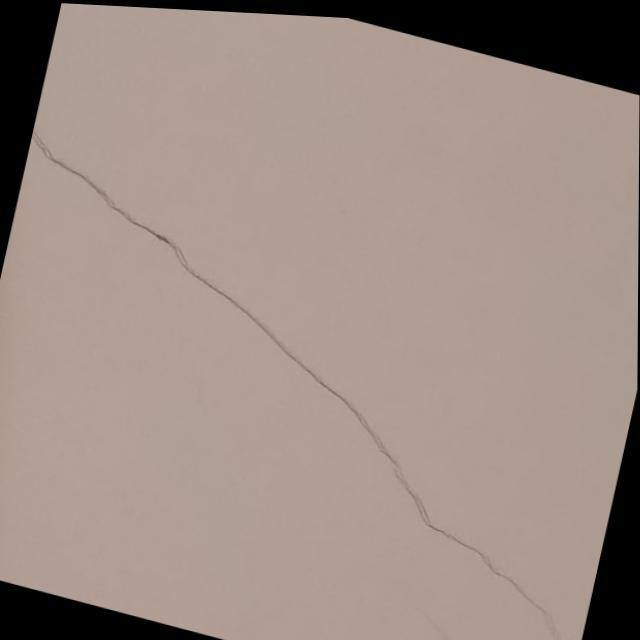Crack: (36, 136, 519, 586)
